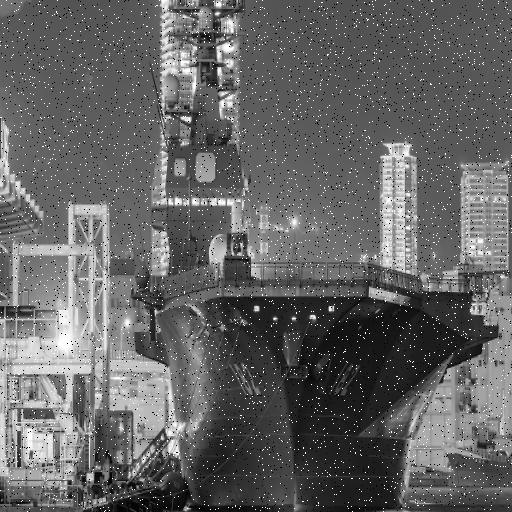Portanaves: (136, 1, 503, 512)
